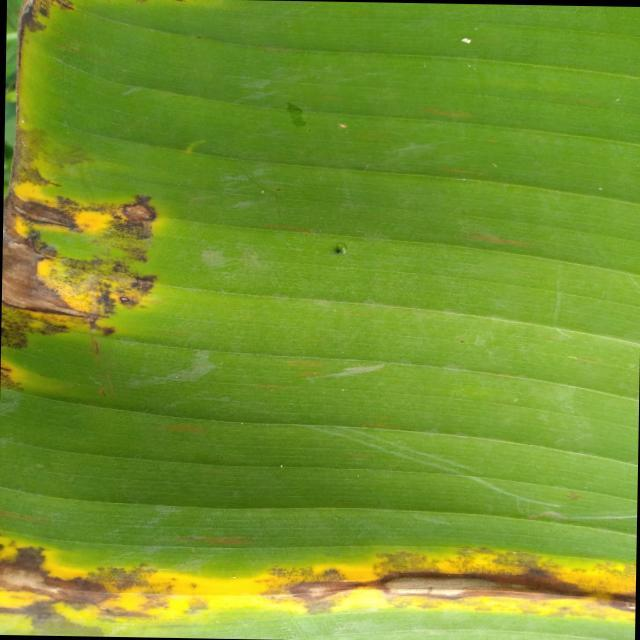Early_rust: (0, 500, 640, 640), (0, 0, 207, 396)
